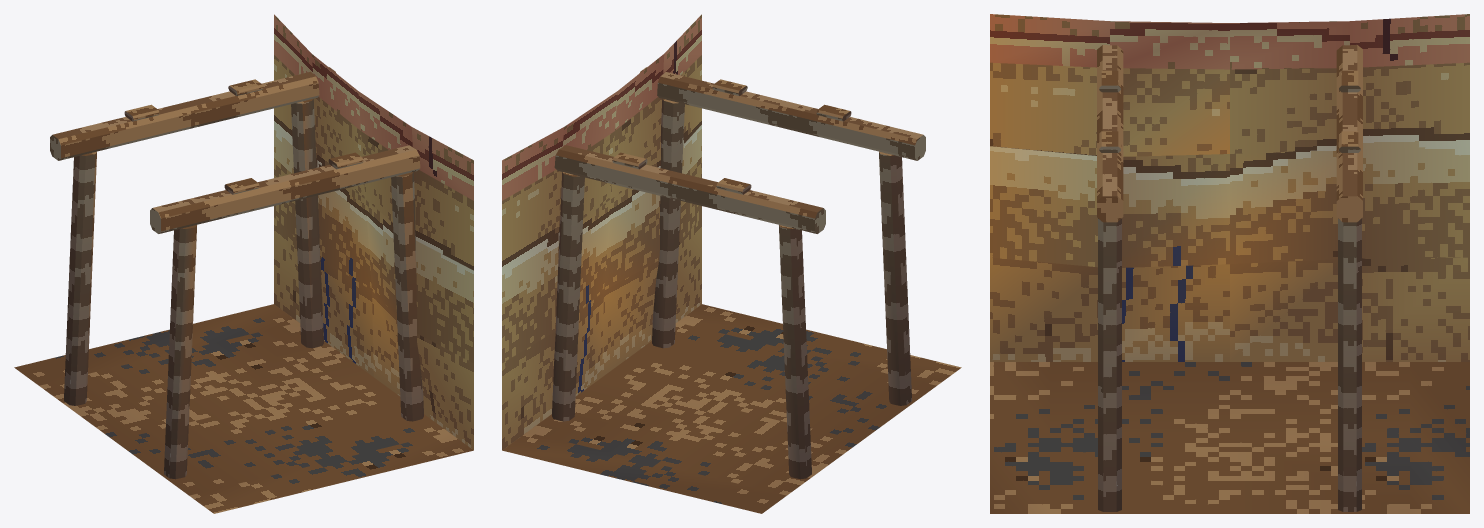
File: wmine.tunnel.glb
3 views of the same model, side by side, from view 1: azimuth 30°, elevation 25°; view 2: azimuth 150°, elevation 25°; view 3: azimuth 270°, elevation 25° (orthographic). The views are drawn at different scales.
Visible parts, largest first — view 1: kit_shell_floor, kit_shell_walls, kit_sets, kit_caps, kit_wedges; view 2: kit_shell_floor, kit_shell_walls, kit_sets, kit_caps, kit_wedges; view 3: kit_shell_walls, kit_shell_floor, kit_sets, kit_caps, kit_wedges.
Boxes of the visible parts, x1=… form: kit_shell_floor: x1=14, y1=304, x2=473, y2=513; kit_shell_walls: x1=274, y1=14, x2=473, y2=450; kit_sets: x1=64, y1=98, x2=423, y2=479; kit_caps: x1=50, y1=67, x2=420, y2=233; kit_wedges: x1=124, y1=79, x2=363, y2=194; kit_shell_floor: x1=502, y1=304, x2=961, y2=513; kit_shell_walls: x1=502, y1=14, x2=701, y2=450; kit_sets: x1=552, y1=98, x2=911, y2=479; kit_caps: x1=554, y1=67, x2=925, y2=233; kit_wedges: x1=612, y1=79, x2=851, y2=194; kit_shell_walls: x1=990, y1=14, x2=1469, y2=361; kit_shell_floor: x1=990, y1=362, x2=1469, y2=513; kit_sets: x1=1098, y1=218, x2=1361, y2=511; kit_caps: x1=1097, y1=44, x2=1362, y2=222; kit_wedges: x1=1099, y1=70, x2=1360, y2=152.
Size of the model in its own units: 3.2 by 3.2 by 4.
5 materials, 5 textured.
